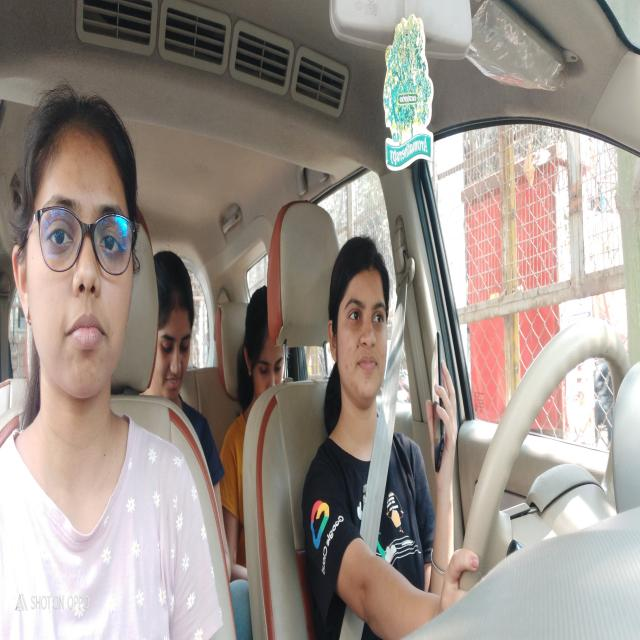mobile: (422, 319, 466, 489)
person: (5, 62, 150, 426), (326, 234, 395, 410), (149, 235, 199, 426), (234, 284, 294, 439)
